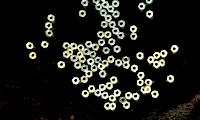nut: (151, 91, 160, 99), (171, 45, 179, 53), (167, 75, 175, 83), (153, 61, 161, 69), (144, 86, 152, 94), (137, 79, 145, 87), (131, 64, 139, 72), (115, 59, 123, 67), (118, 20, 126, 28), (112, 27, 120, 35), (112, 0, 120, 8), (107, 5, 115, 13), (100, 9, 108, 17), (95, 3, 103, 11), (110, 76, 118, 84), (87, 58, 95, 66), (88, 85, 96, 93), (82, 90, 90, 98), (72, 77, 80, 85), (74, 62, 82, 70), (70, 42, 78, 50), (26, 42, 34, 50), (120, 96, 127, 105), (124, 101, 131, 110), (102, 59, 109, 68), (147, 10, 154, 18), (138, 3, 146, 10), (159, 59, 166, 67), (148, 56, 155, 64), (130, 26, 138, 33), (130, 33, 138, 40), (137, 52, 144, 60), (145, 79, 153, 86), (133, 93, 140, 101), (126, 92, 133, 100), (123, 56, 130, 64), (123, 62, 131, 69), (117, 32, 125, 39), (109, 21, 117, 28), (113, 10, 120, 18), (114, 45, 121, 53), (114, 90, 122, 97), (105, 31, 112, 39), (97, 31, 105, 38), (102, 1, 110, 8), (79, 10, 86, 18), (109, 38, 116, 46), (98, 39, 106, 46), (109, 95, 117, 102), (109, 103, 116, 111), (106, 82, 113, 90), (102, 92, 109, 100), (99, 84, 106, 92), (95, 89, 102, 97), (98, 63, 105, 71), (99, 71, 107, 78), (95, 56, 102, 64), (89, 51, 97, 58), (85, 41, 93, 48), (83, 48, 91, 55), (86, 70, 93, 78), (81, 76, 88, 84), (81, 65, 89, 72), (79, 56, 86, 64), (77, 45, 85, 52), (77, 51, 84, 59), (63, 51, 70, 59), (63, 42, 71, 49), (58, 61, 65, 69), (48, 14, 55, 22), (45, 22, 53, 29), (46, 29, 53, 37), (41, 41, 49, 48), (30, 52, 37, 60), (161, 50, 168, 57), (154, 52, 161, 59), (141, 87, 148, 94), (138, 72, 145, 79), (101, 21, 108, 28), (105, 15, 112, 22), (108, 56, 115, 63), (103, 47, 110, 54), (104, 103, 111, 110), (92, 44, 99, 51), (91, 65, 98, 72), (71, 55, 78, 62), (67, 49, 74, 56), (81, 1, 89, 6), (146, 0, 153, 4), (93, 0, 100, 4), (100, 0, 107, 2)
